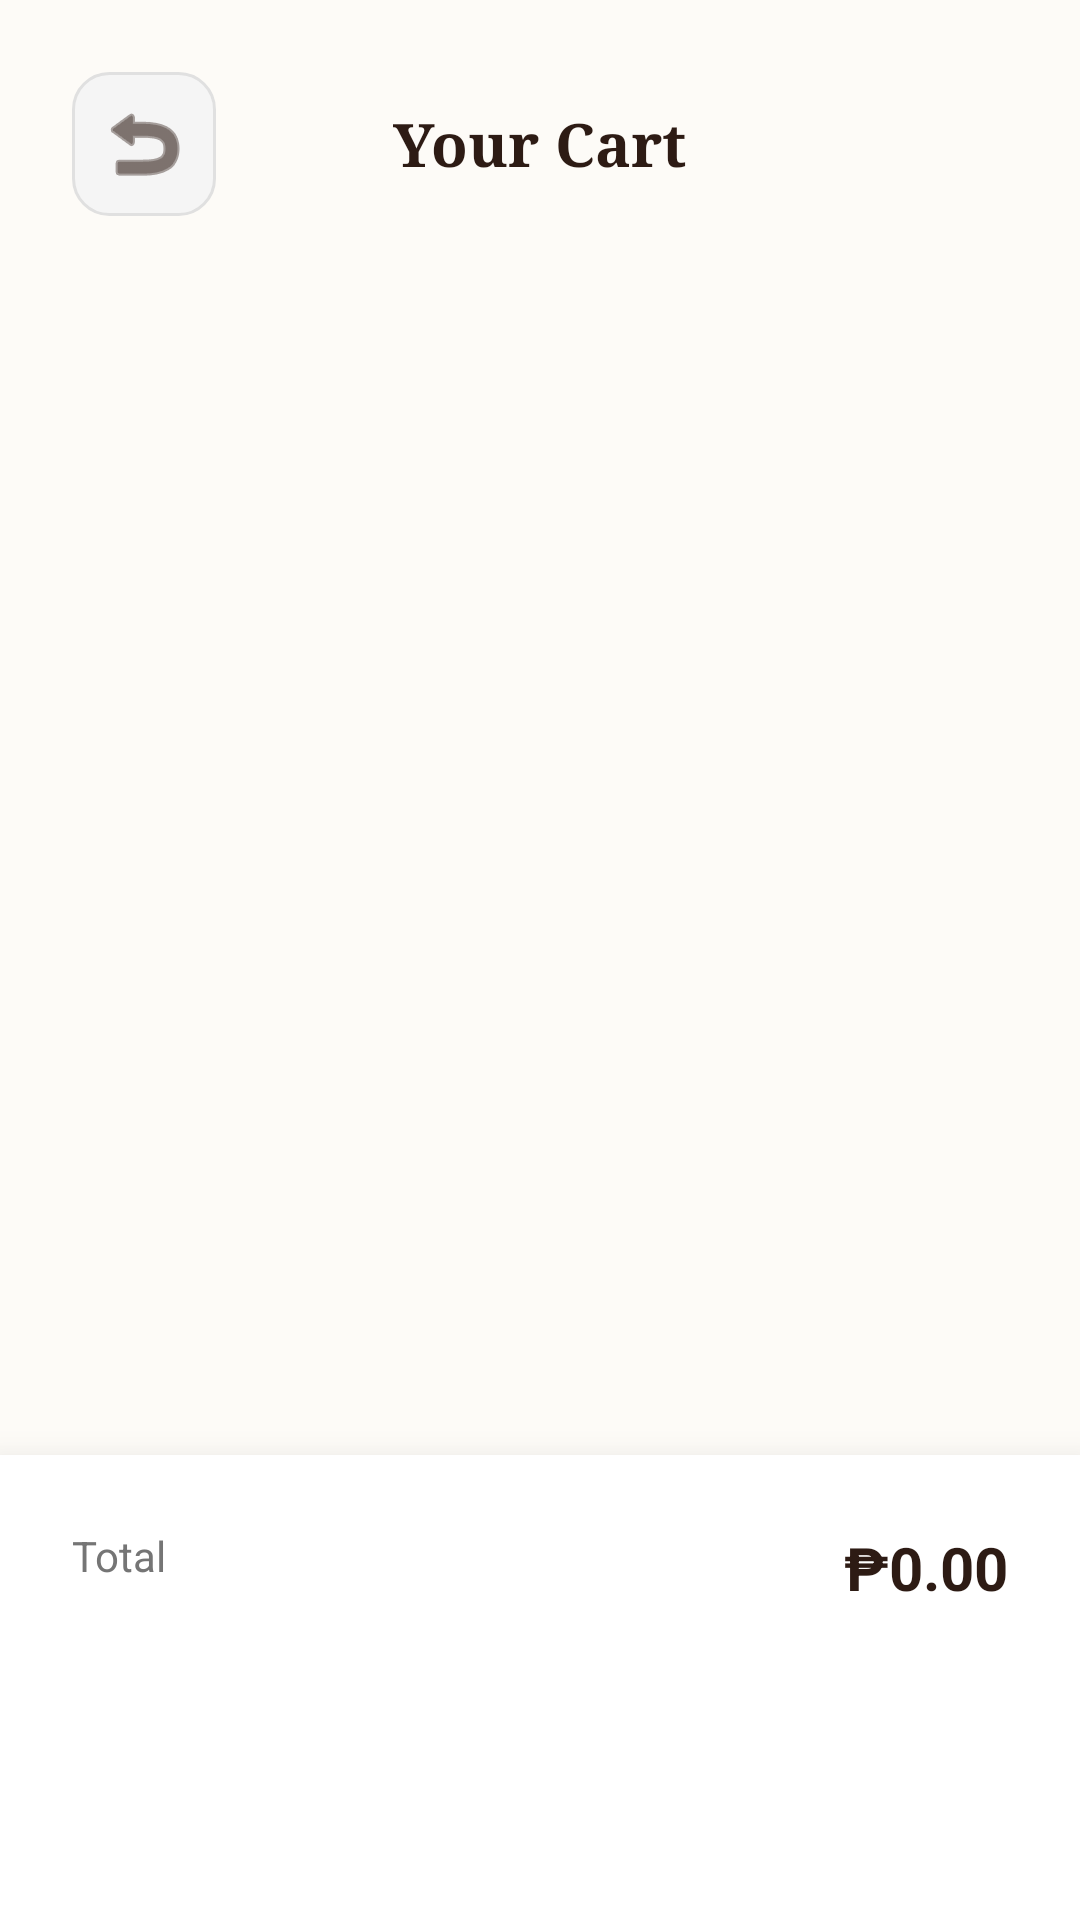

Icons on this 1080x1920 Android screen, each with its box as bbox(x1, y1, x2, y2):
revert: bbox(72, 72, 216, 216)
